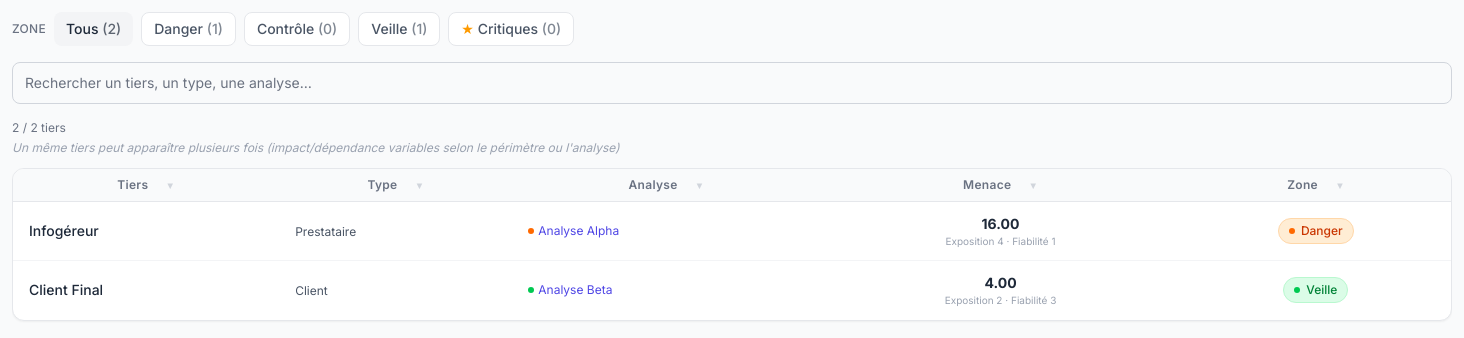
Test: TiersClient › filtre par zone (Danger)
Click the button "Danger (1)": (189, 29) [141, 12, 236, 46]
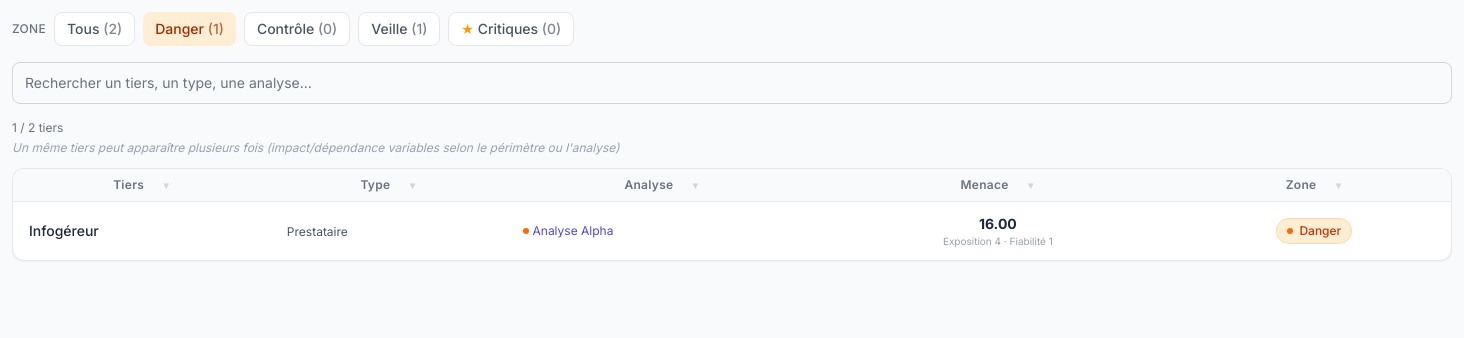
Expected: the text "Infogéreur" is shown 2 times
Expected: the text "Client Final" is not shown
